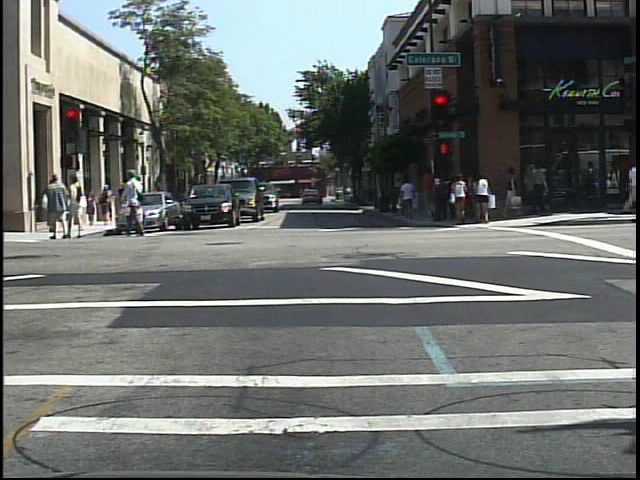person: (120, 166, 150, 241), (45, 169, 70, 245), (68, 173, 92, 244)
